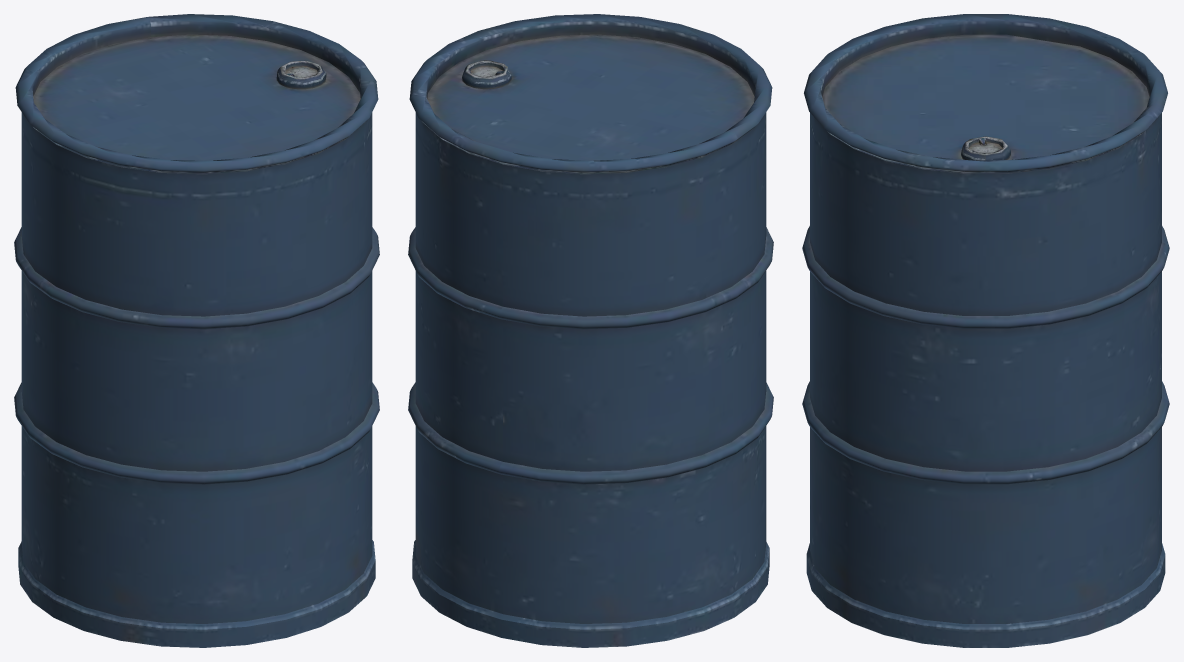
Rendered from barrel_03.glb.
3 renders of one model, left to right at view 1: azimuth 30°, elevation 25°; view 2: azimuth 150°, elevation 25°; view 3: azimuth 270°, elevation 25°, orthographic.
Parts seen in each view (by area): view 1: barrel_03; view 2: barrel_03; view 3: barrel_03.
Part boxes in pixels (<box>): barrel_03: <box>14,14,379,647</box>; barrel_03: <box>408,14,773,647</box>; barrel_03: <box>802,14,1169,647</box>.
Bounding box in the file's own units: 0.634 × 0.9305 × 0.6386.
1 material, 1 textured.
